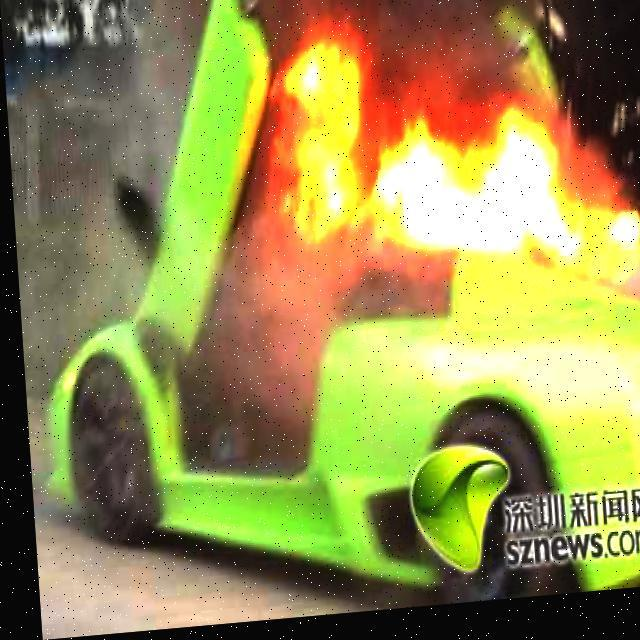Fire: (271, 11, 639, 322)
